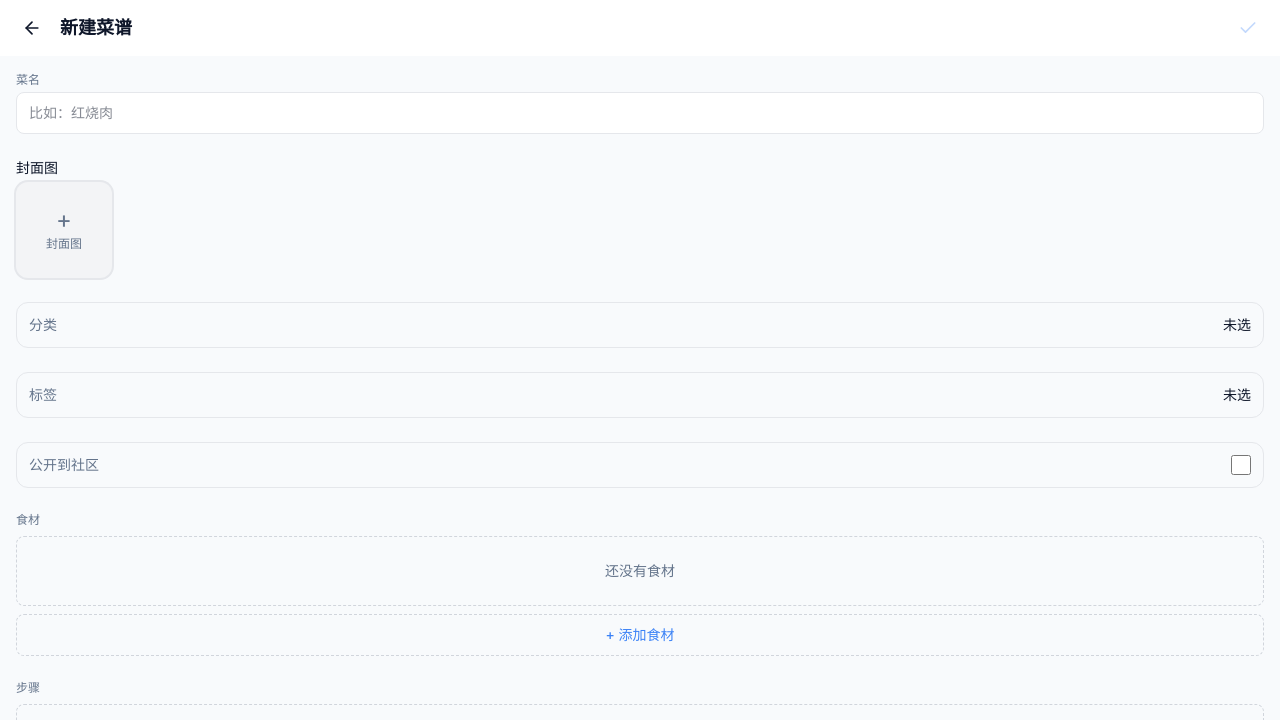
Test case: RecipeEdit › 点「添加食材」打开 IngredientSheet，确认后追加一行「食材名 数量 单位」
The image size is (1280, 720).
Click the button with test id "add-ingredient".
click(640, 635)  # box [16, 614, 1264, 656]
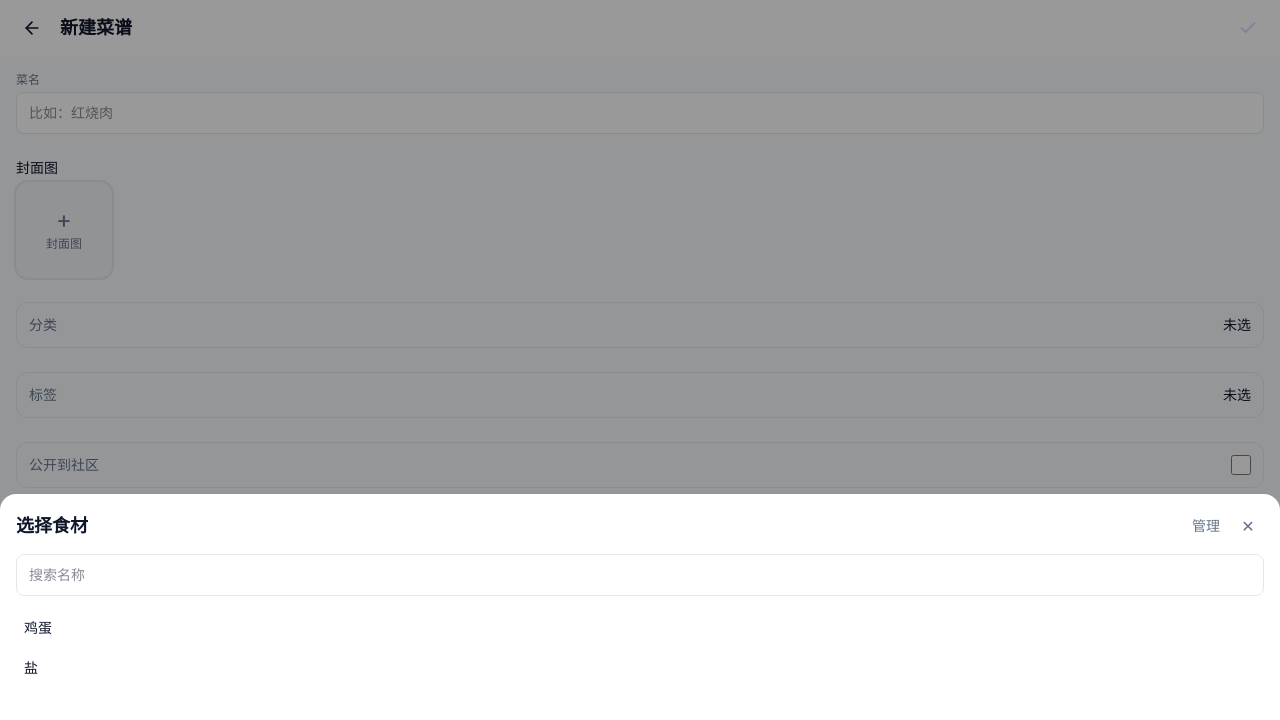
Click the element with test id "ref-row" showing "鸡蛋".
click(38, 628)  # box [24, 619, 52, 636]
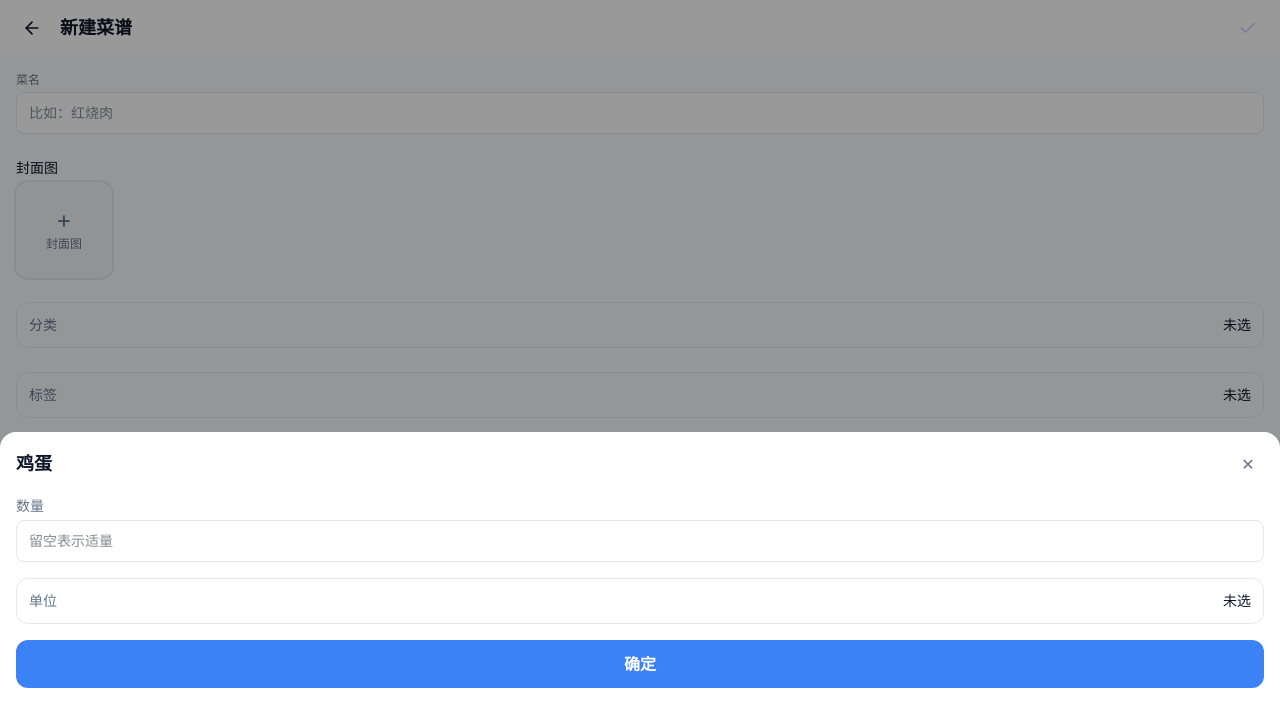
Type "2" into the number field with test id "ingredient-amount".
click(640, 541); type("2")  # box [16, 520, 1264, 562]
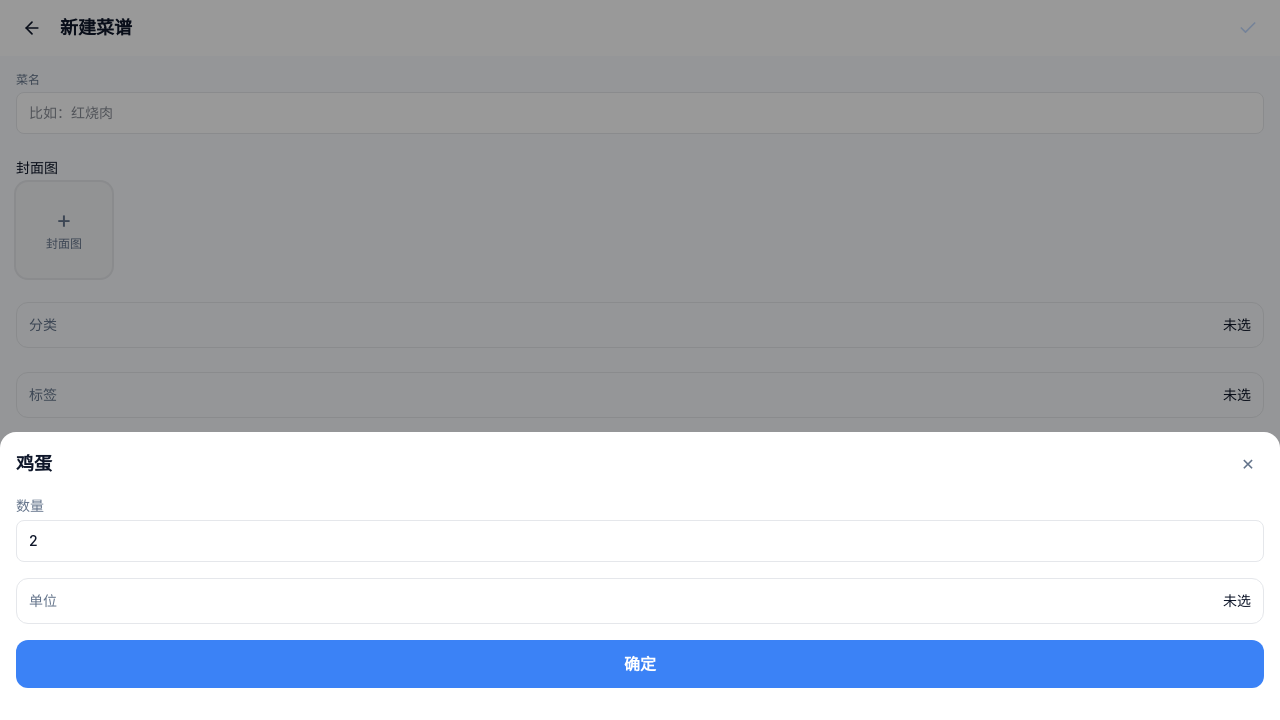
Click the button with test id "ingredient-unit".
click(43, 600)  # box [16, 578, 1264, 624]
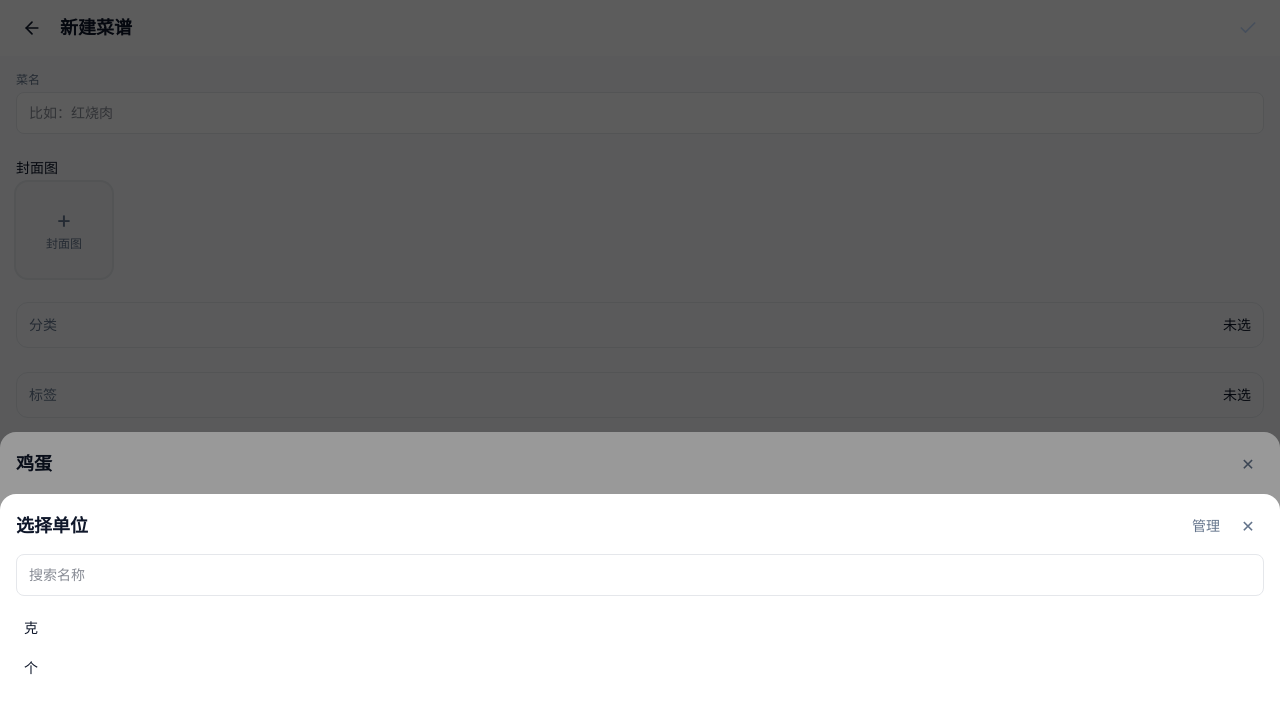
Click the element with test id "ref-row" showing "个".
click(31, 668)  # box [24, 659, 38, 676]
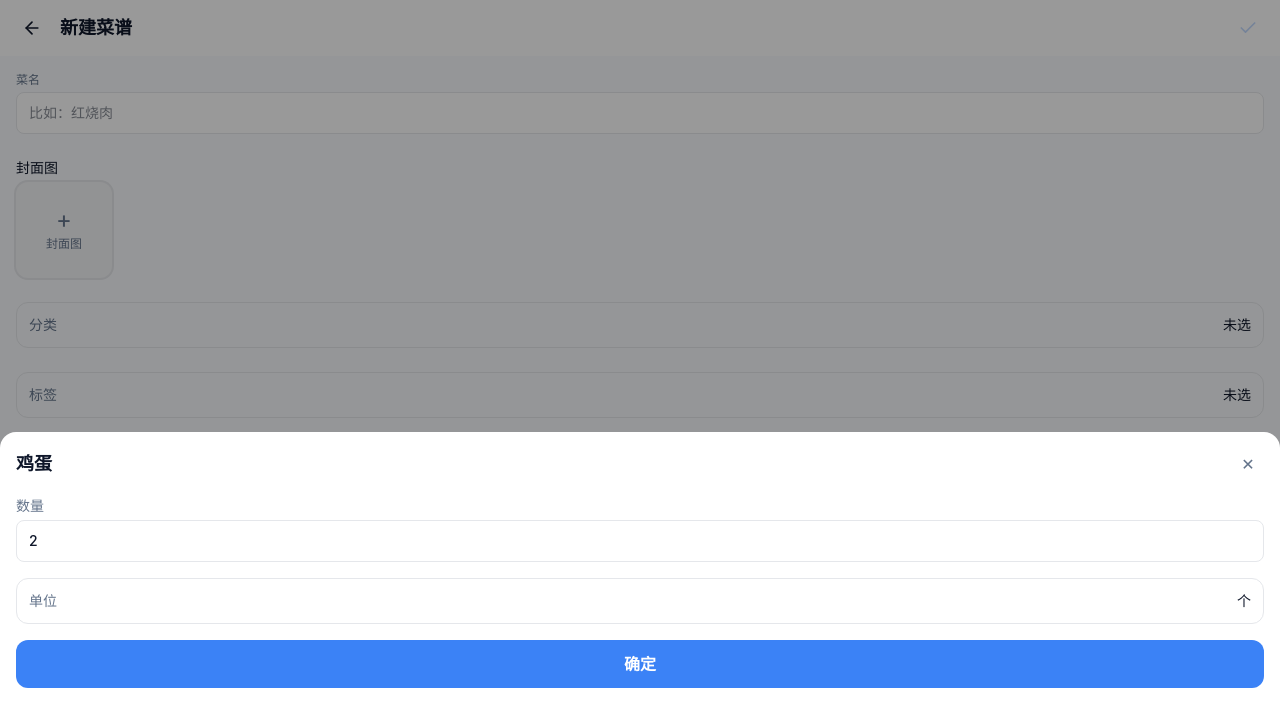
Click the button with test id "ingredient-confirm".
click(640, 664)  # box [16, 640, 1264, 688]
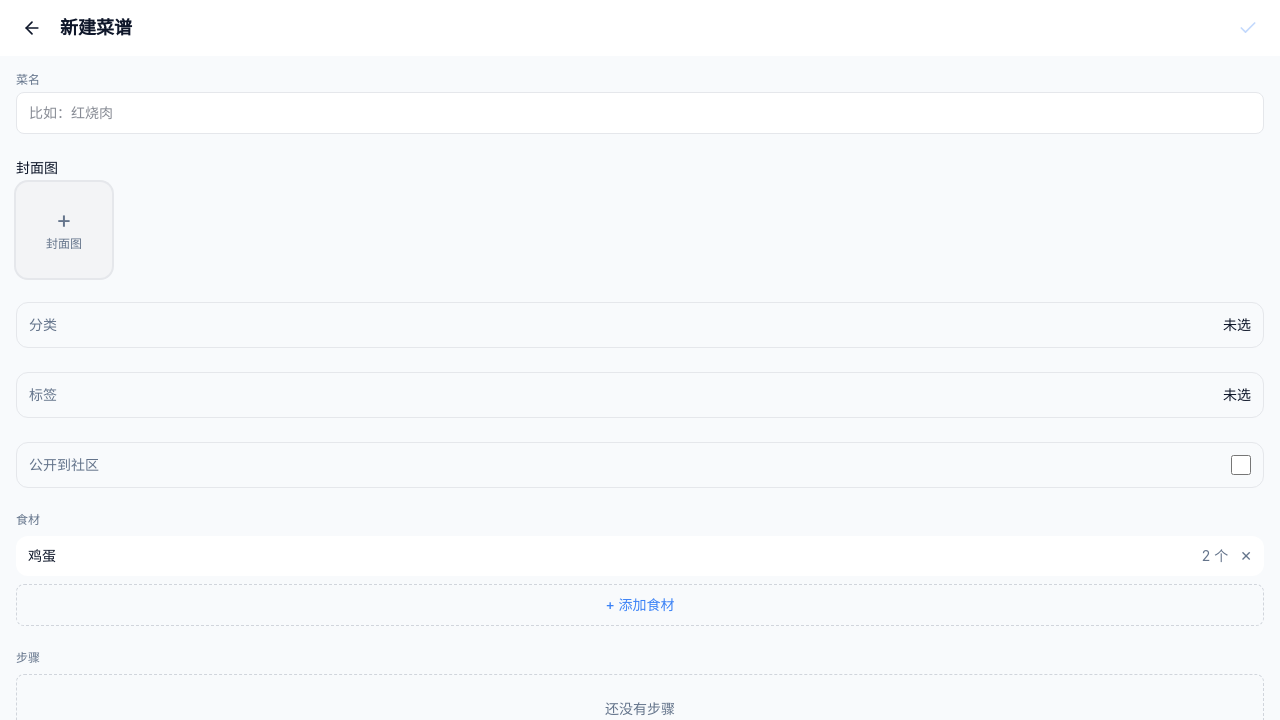
Expected: the text with test id "ingredient-row-name" reads "鸡蛋", [28, 547, 56, 564]
Expected: the text with test id "ingredient-row-amount" shows "2", [1202, 547, 1228, 564]
Expected: the text with test id "ingredient-row-amount" shows "个", [1202, 547, 1228, 564]
